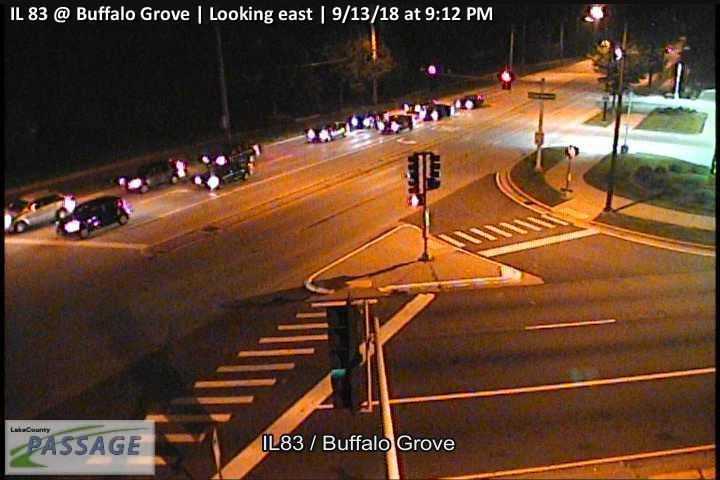SUV: (1, 187, 77, 233), (57, 195, 131, 238)
Sedan: (191, 162, 250, 190)
